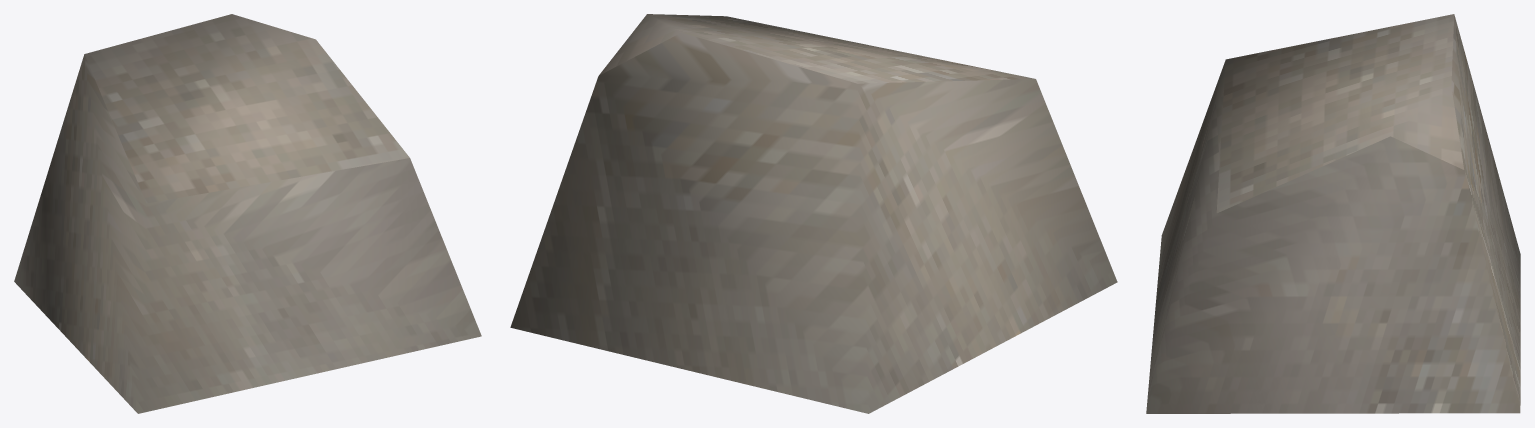
File: rock_2.fbx
3 views of the same model, side by side, from view 1: azimuth 30°, elevation 25°; view 2: azimuth 150°, elevation 25°; view 3: azimuth 270°, elevation 25° (orthographic). The views are drawn at different scales.
Parts seen in each view (by area): view 1: rock_2; view 2: rock_2; view 3: rock_2.
Boxes of the visible parts, x1,y1,x2,y2 form: rock_2: (14, 14, 481, 413); rock_2: (510, 14, 1117, 413); rock_2: (1146, 14, 1520, 413).
Size of the model in its own units: 55.38 by 48.89 by 38.9.
